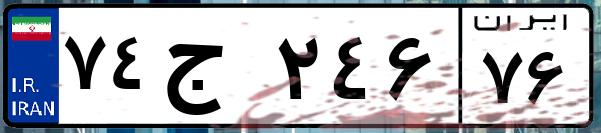2: (270, 28, 330, 110)
4: (330, 28, 385, 110), (110, 28, 158, 98)
6: (385, 28, 445, 110), (525, 38, 570, 115)
7: (57, 26, 110, 100), (475, 38, 525, 113)
ج: (158, 20, 270, 120)
